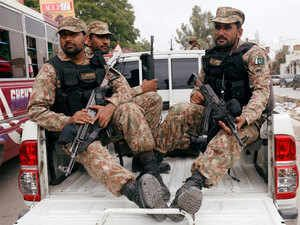gun: (50, 67, 117, 176), (183, 65, 250, 157)
uniform: (153, 36, 273, 198), (19, 47, 152, 191), (84, 41, 173, 153)
